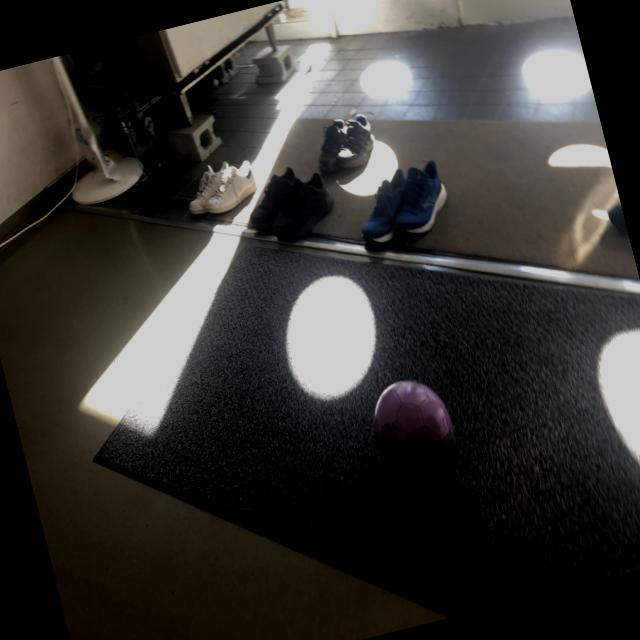purple_ball: (360, 370, 462, 492)
